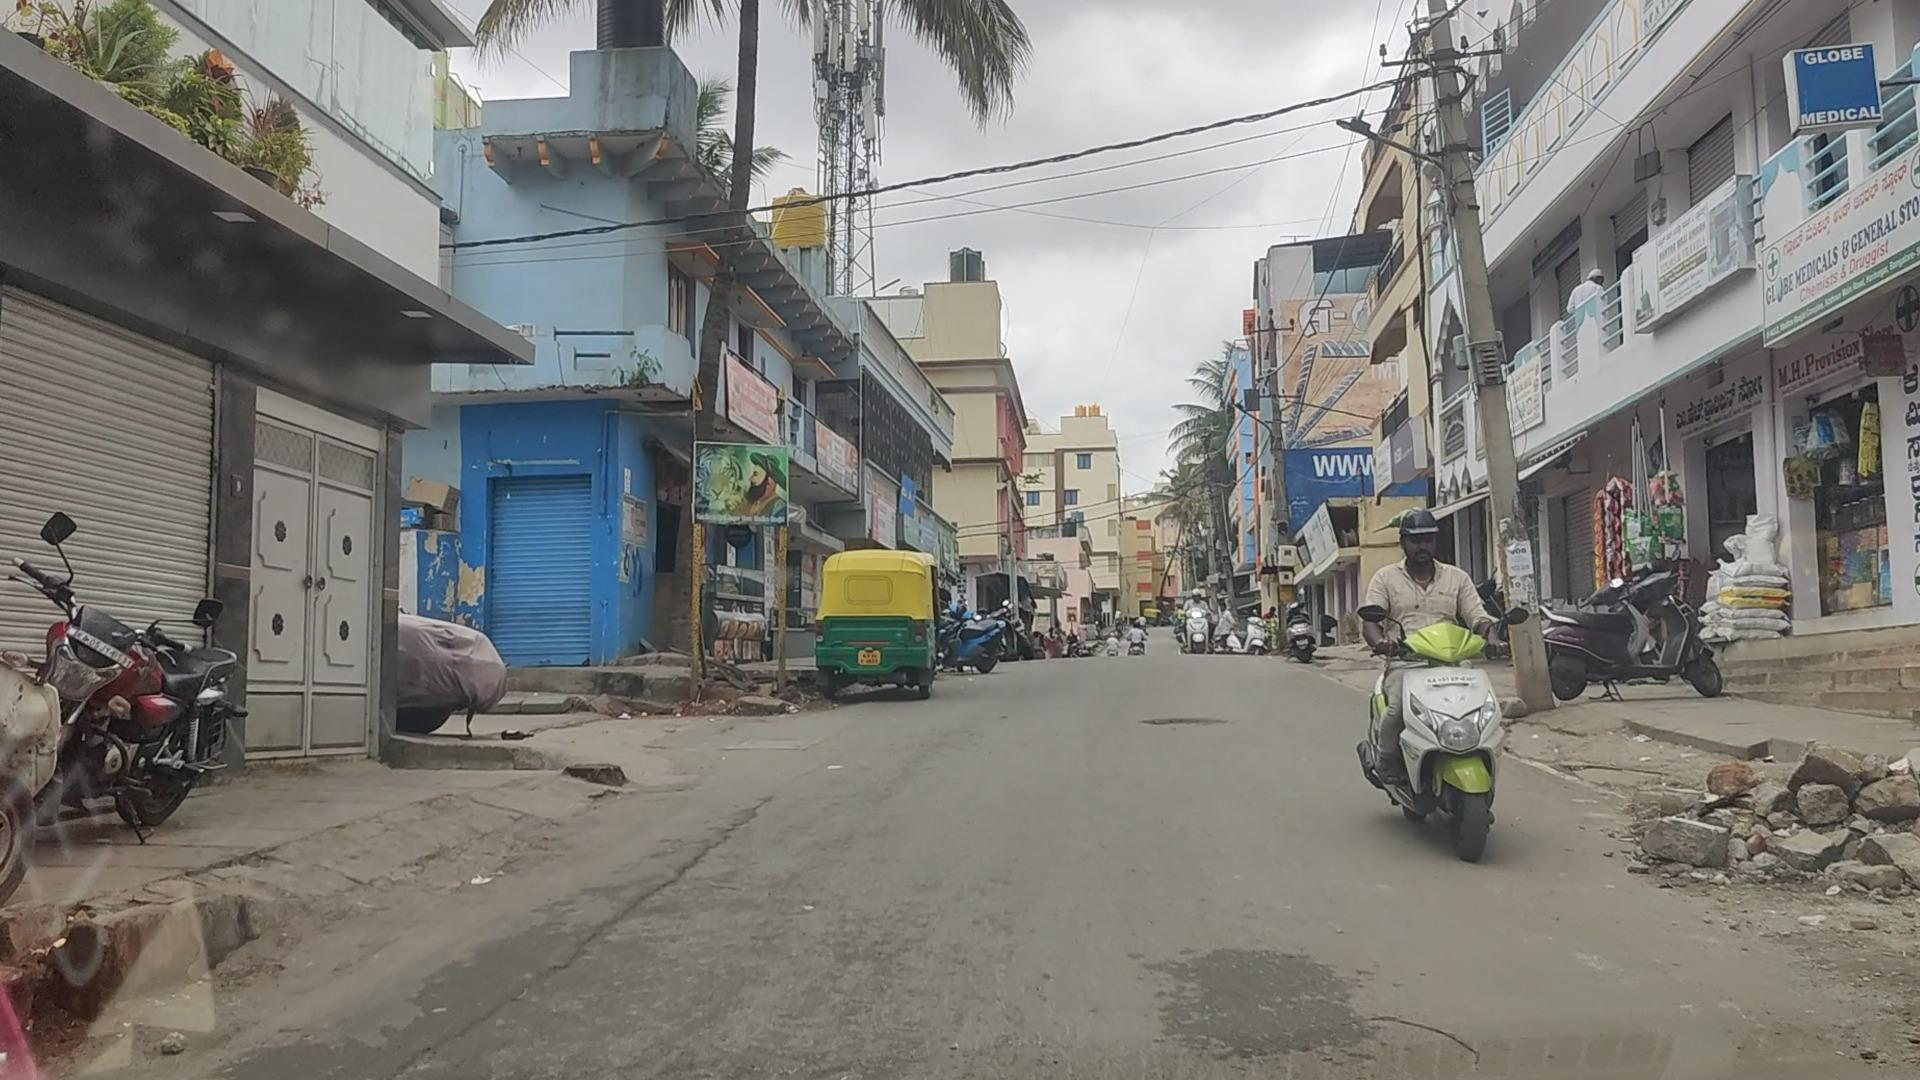LMV: (1371, 510, 1493, 855)
RoadDamages: (1323, 1000, 1468, 1079), (571, 898, 651, 973), (703, 798, 779, 858), (1141, 702, 1225, 735)
